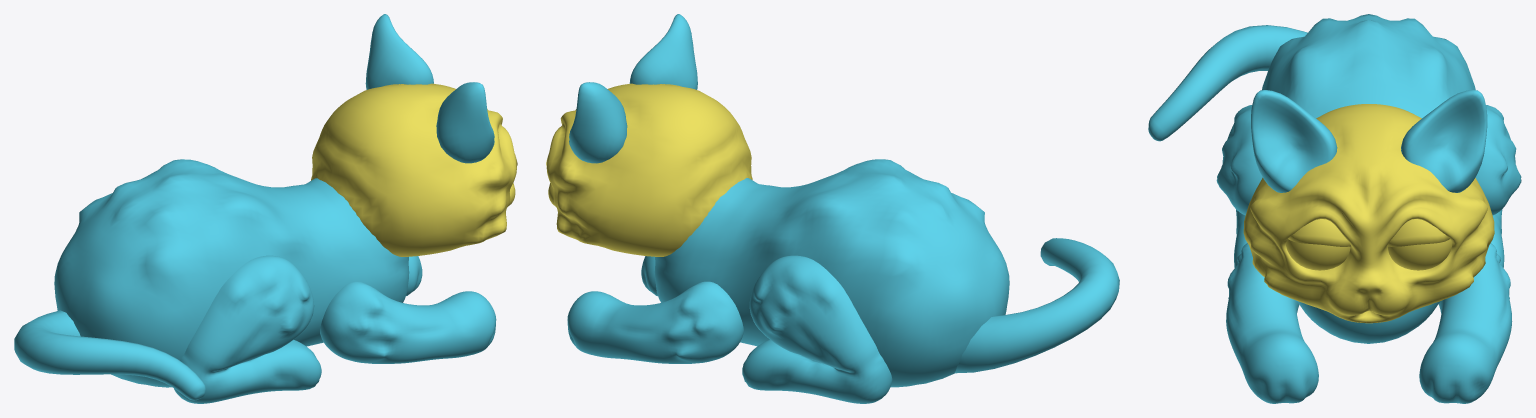
Rendered from Cat efteling.fbx.
3 views of the same model, side by side, from view 1: azimuth 30°, elevation 25°; view 2: azimuth 150°, elevation 25°; view 3: azimuth 270°, elevation 25° (orthographic). The views are drawn at different scales.
Visible parts, largest first — view 1: body retop.003, Head retop.003, back legp retop.004, Front leg retop.003, Tail retop.003, Ear retop.003; view 2: body retop.003, Head retop.003, back legp retop.004, Front leg retop.003, Tail retop.003, Ear retop.003; view 3: Head retop.003, body retop.003, Front leg retop.003, Ear retop.003, back legp retop.004, Tail retop.003, Eyes retop.002, Eyelid retop.002.
Part boxes in pixels (x1,y1,x2,y2): body retop.003: (54,159,409,387); Head retop.003: (311,83,516,256); back legp retop.004: (174,255,321,403); Front leg retop.003: (320,256,496,363); Tail retop.003: (14,310,205,400); Ear retop.003: (365,14,494,163); body retop.003: (654,159,1009,387); Head retop.003: (547,83,752,256); back legp retop.004: (742,255,892,403); Front leg retop.003: (567,256,743,363); Tail retop.003: (955,238,1119,373); Ear retop.003: (569,14,697,163); Head retop.003: (1243,104,1494,323); body retop.003: (1262,14,1475,343); Front leg retop.003: (1226,243,1512,403); Ear retop.003: (1251,90,1487,192); back legp retop.004: (1216,105,1521,267); Tail retop.003: (1148,25,1307,141); Eyes retop.002: (1286,239,1452,270); Eyelid retop.002: (1288,219,1449,246).
Size of the model in its own units: 418 by 209 by 228.
